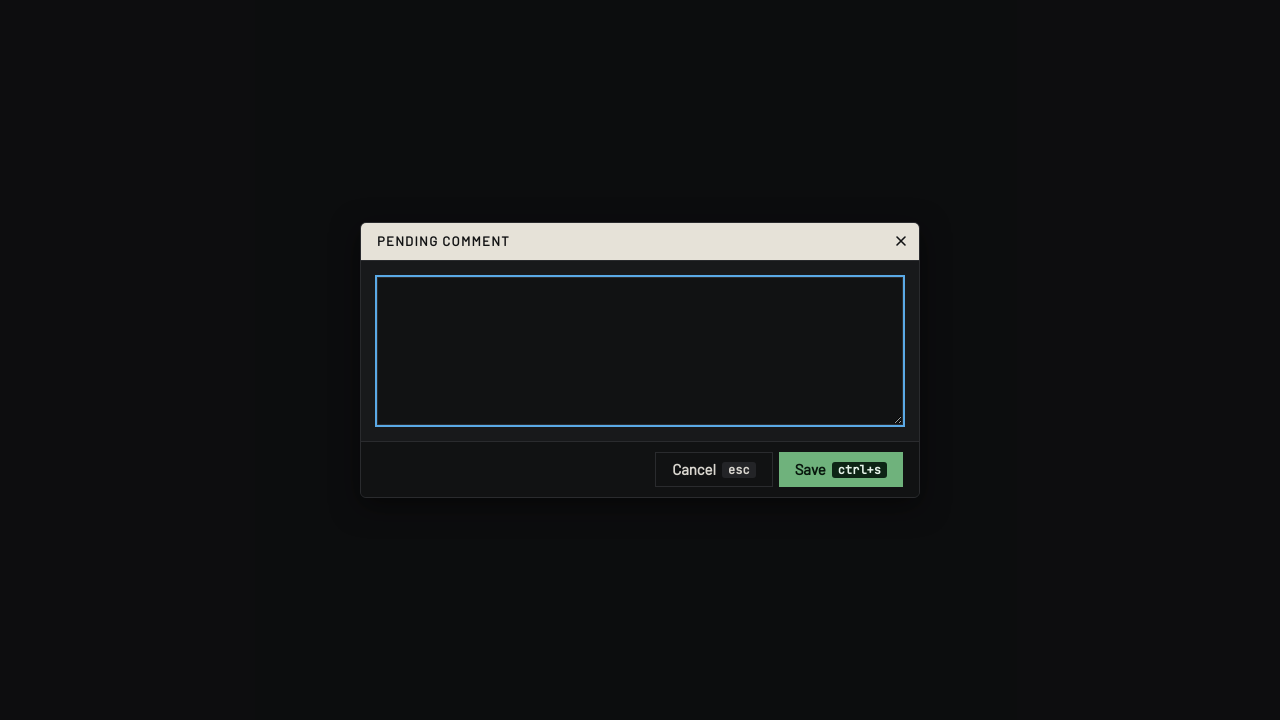
Test: the comment box of a review › saves with ctrl+s and says it is saving, holding the text still
Type "Rename this" into the text box named "Comment text" at (640, 351), box [377,277,903,425]
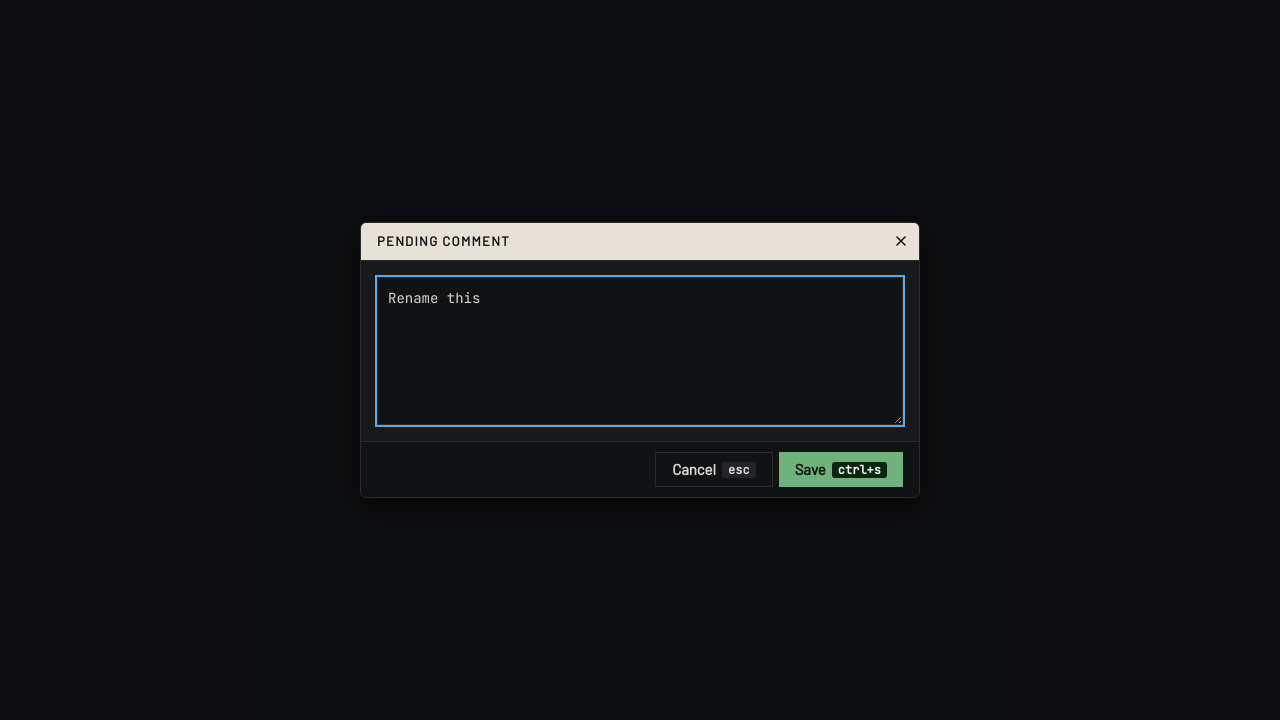
Type keys "{Control>}s{/Control}"
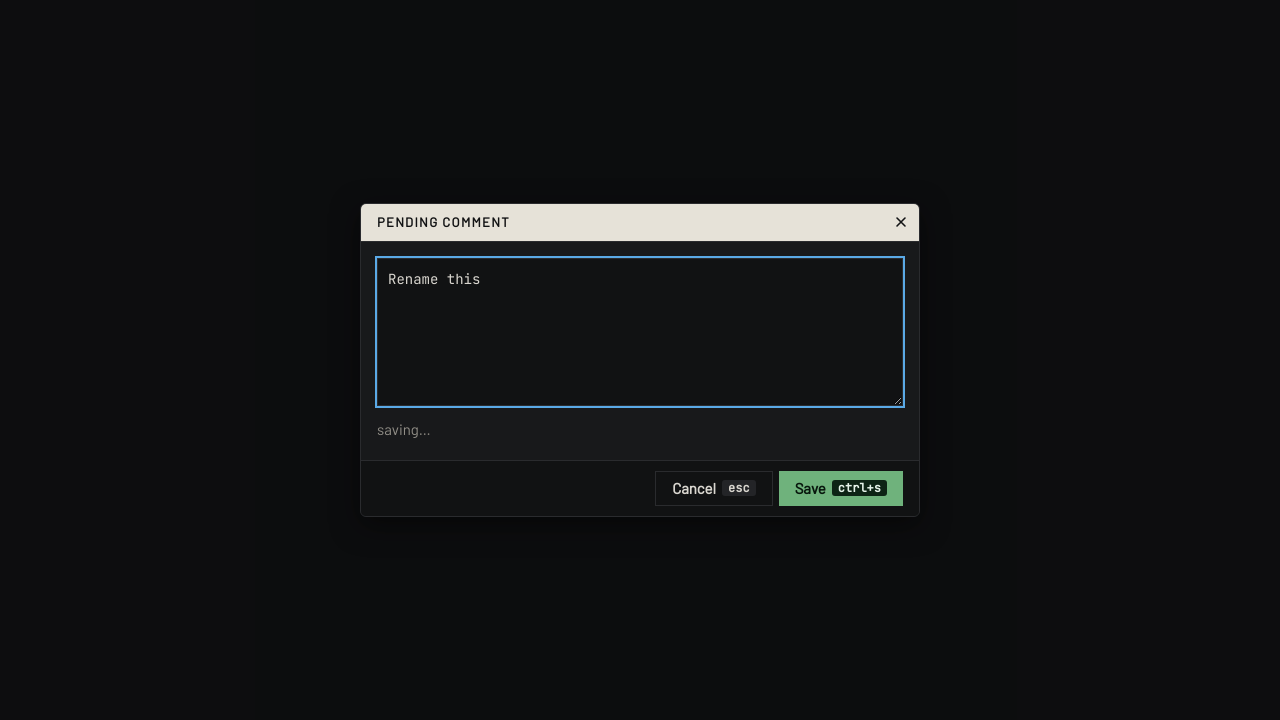
Check: the text "saving…" is shown, box [377,420,431,438]
